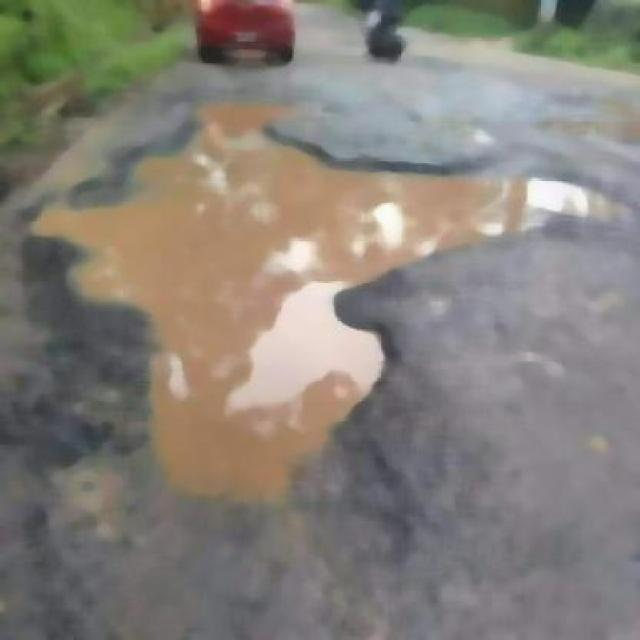Pothole: (65, 101, 501, 508)
